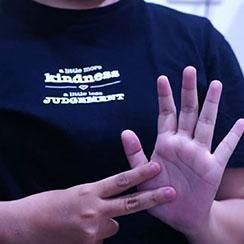N: (13, 41, 244, 244)
